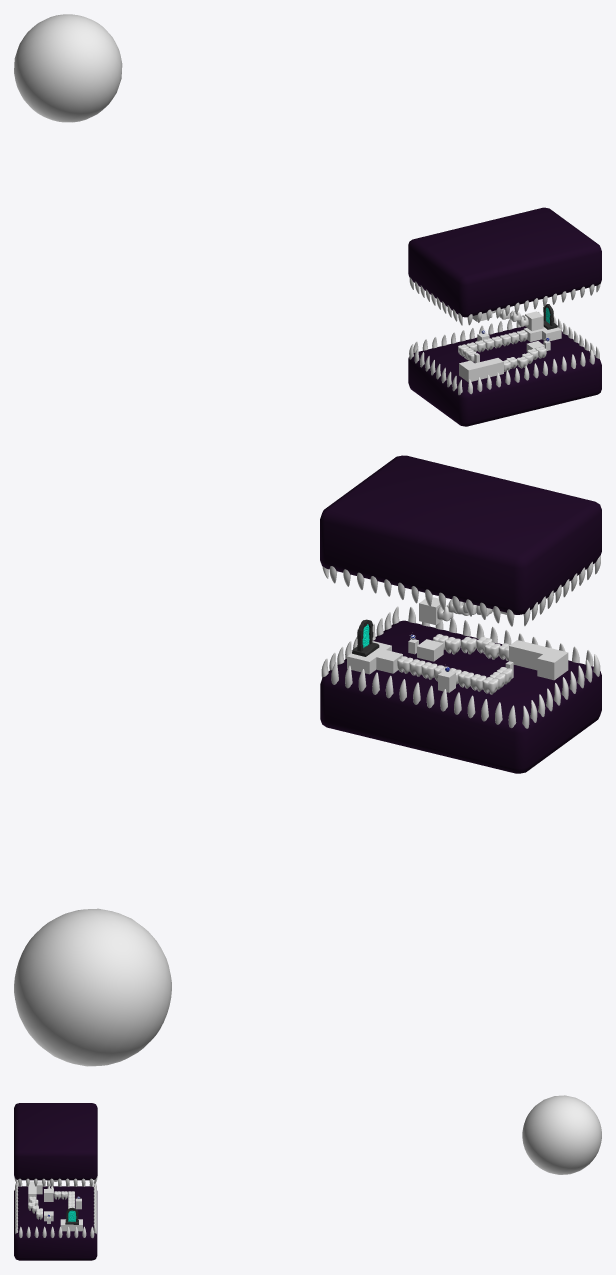
Rendered from nivel1.fbx.
3 views of the same model, one above another, from view 1: azimuth 30°, elevation 25°; view 2: azimuth 150°, elevation 25°; view 3: azimuth 270°, elevation 25° (orthographic). The views are drawn at different scales.
Parts seen in each view (by area): view 1: Cube.003, Cube.002, Sphere.012, colmillo.003, Cube.007, colmillo.006, colmillo.001, colmillo.002; view 2: Cube.003, Cube.002, Sphere.012, colmillo.002, Cube.007, colmillo.007, colmillo.001, Cube.001, colmillo.003, colmillo.005; view 3: Cube.003, Sphere.012, Cube.002, colmillo, colmillo.004.
Boxes of the visible parts, x1,y1,x2,y2 form: Cube.003: [408, 207, 601, 317]; Cube.002: [408, 326, 601, 426]; Sphere.012: [14, 14, 122, 122]; colmillo.003: [467, 349, 594, 394]; Cube.007: [459, 358, 503, 382]; colmillo.006: [467, 284, 594, 325]; colmillo.001: [409, 344, 462, 395]; colmillo.002: [413, 311, 539, 352]; Cube.003: [320, 455, 601, 614]; Cube.002: [320, 620, 601, 773]; Sphere.012: [14, 908, 171, 1066]; colmillo.002: [331, 662, 516, 728]; Cube.007: [509, 640, 568, 680]; colmillo.007: [329, 566, 514, 626]; colmillo.001: [522, 654, 600, 728]; Cube.001: [347, 641, 402, 674]; colmillo.003: [408, 606, 593, 666]; colmillo.005: [523, 556, 600, 626]; Cube.003: [14, 1103, 97, 1180]; Sphere.012: [522, 1095, 601, 1174]; Cube.002: [14, 1186, 97, 1260]; colmillo: [19, 1226, 94, 1238]; colmillo.004: [18, 1178, 93, 1186].
Bounding box in the file's own units: 5403 × 3699 × 17837.
